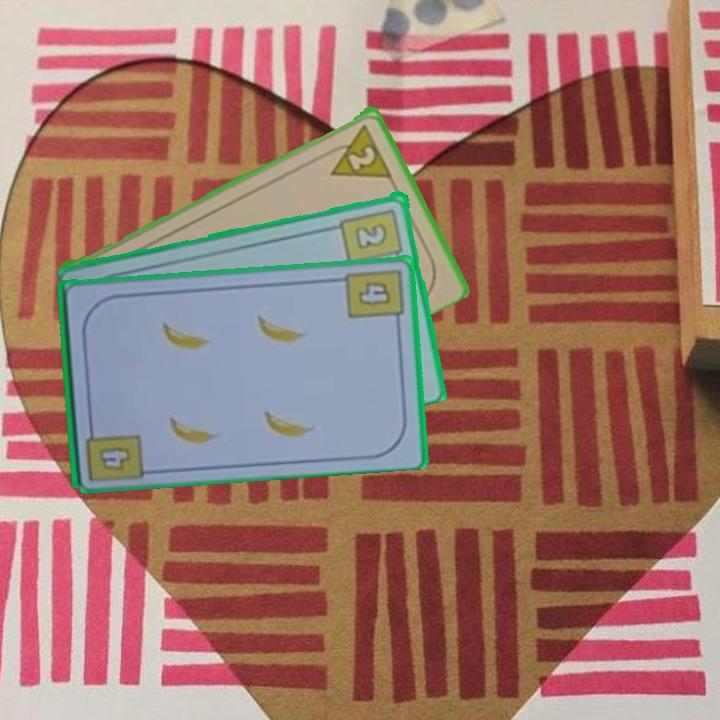2b: (337, 204, 406, 266)
2p: (320, 120, 394, 181)
4b: (342, 264, 406, 329), (95, 442, 135, 474)
